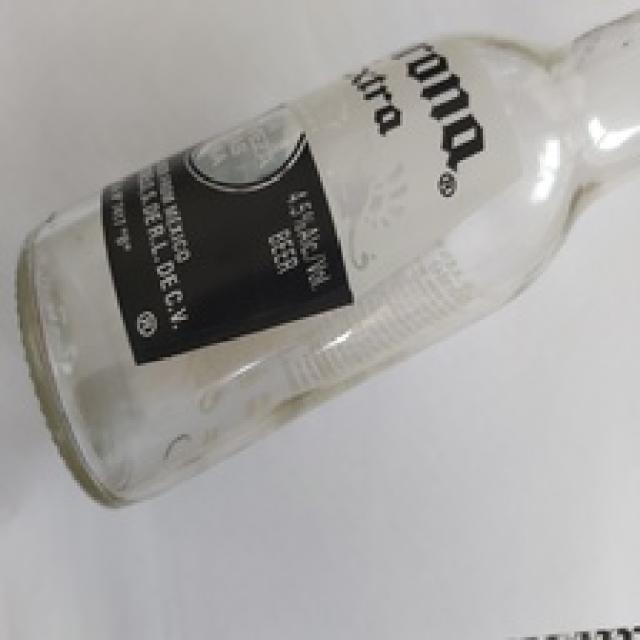Glass: (20, 0, 640, 507)
